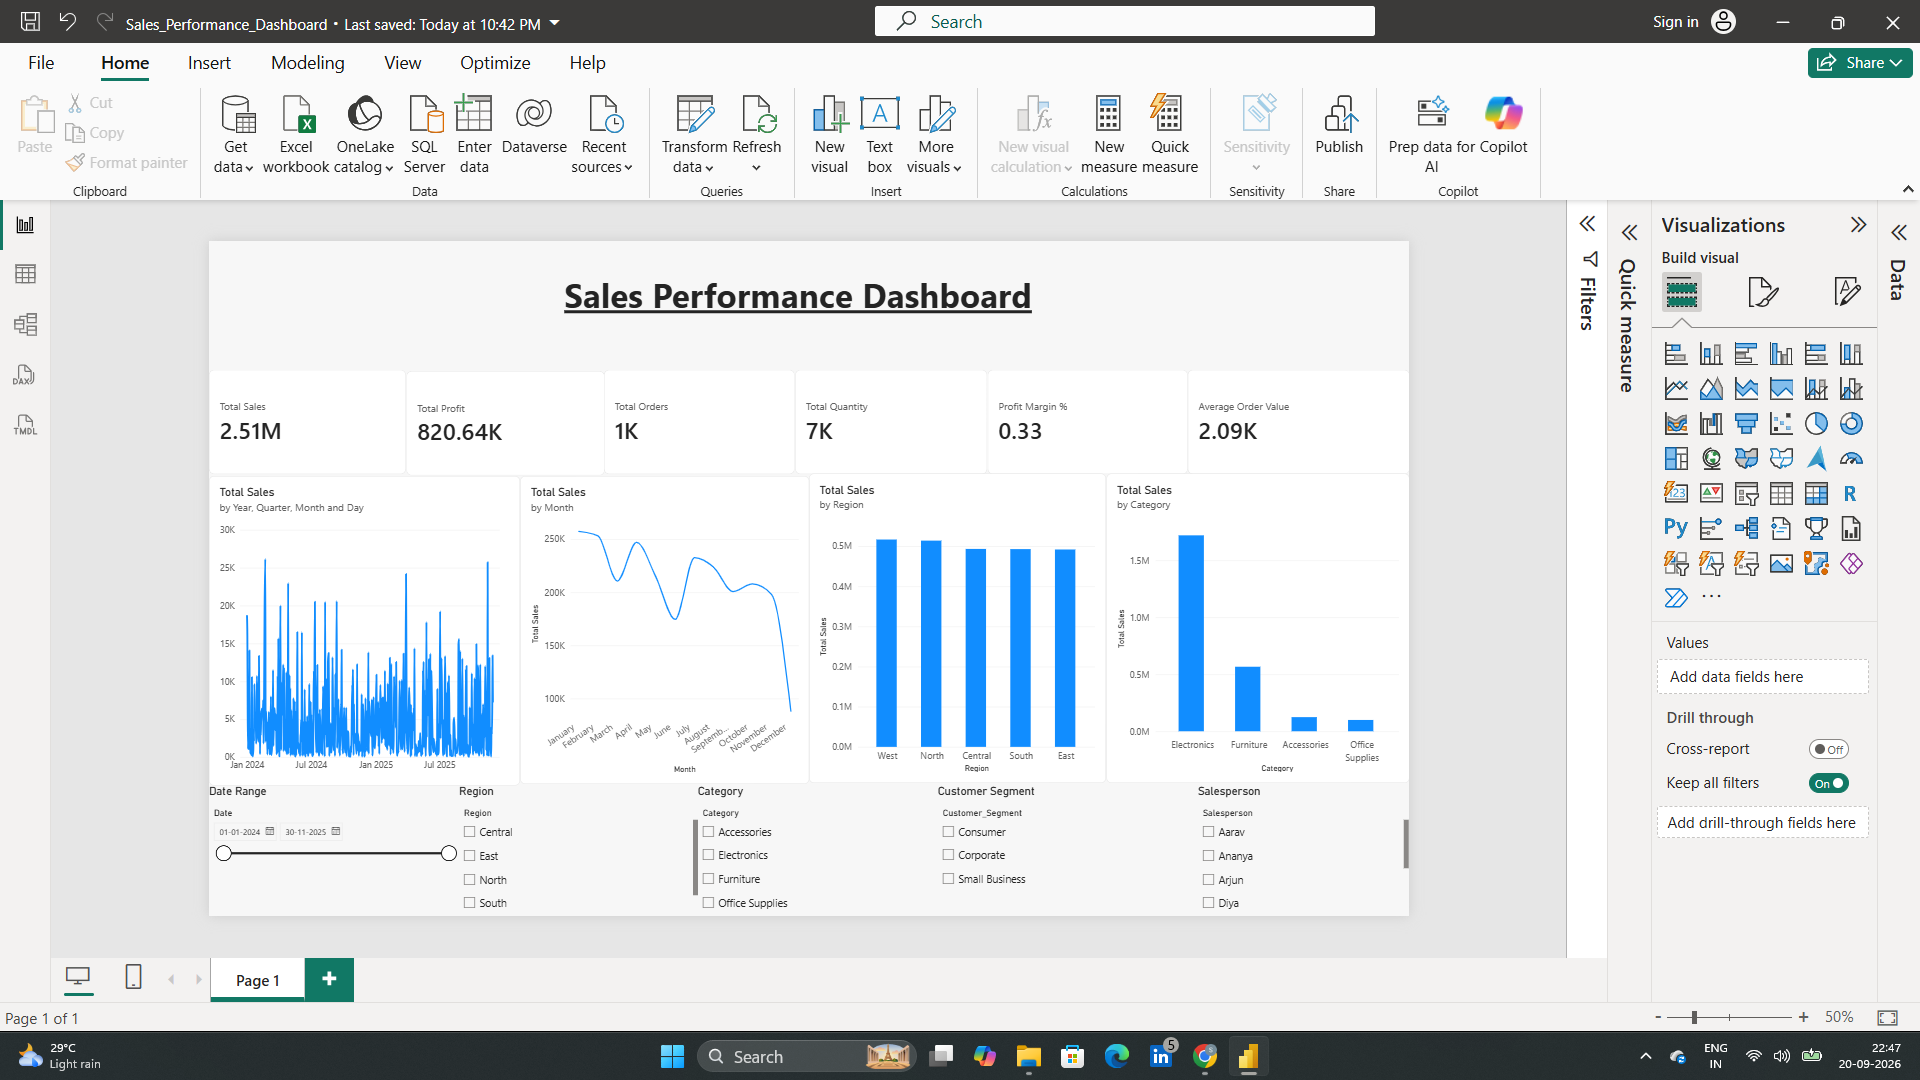

What the dashboard file says about the page in this screenshot:
{"tool":"powerbi","page":{"name":"Page 1","canvas":[1920,1080],"ordinal":0},"visuals":[{"type":"cardVisual","fields":{"Data":["Sales.Total Sales"]},"box":[0,205,315,167.5],"z":0},{"type":"cardVisual","fields":{"Data":["Sales.Total Profit"]},"box":[315,207.5,317.5,167.5],"z":1000},{"type":"cardVisual","fields":{"Data":["Sales.Total Orders"]},"box":[632.5,205,305,167.5],"z":2000},{"type":"cardVisual","fields":{"Data":["Sales.Total Quantity"]},"box":[937.5,205,307.5,167.5],"z":3000},{"type":"cardVisual","fields":{"Data":["Sales.Profit Margin %"]},"box":[1245,205,320,167.5],"z":4000},{"type":"cardVisual","fields":{"Data":["Sales.Average Order Value"]},"box":[1565,205,355,167.5],"z":5000},{"type":"lineChart","fields":{"Category":["Date.Date.Variation.Date Hierarchy.Year","Date.Date.Variation.Date Hierarchy.Quarter","Date.Date.Variation.Date Hierarchy.Month","Date.Date.Variation.Date Hierarchy.Day"],"Y":["Sales.Total Sales"]},"box":[0,375,497.5,495],"z":6000},{"type":"clusteredColumnChart","fields":{"Category":["Sales.Region"],"Y":["Sales.Total Sales"]},"box":[960,372.5,475,495],"z":7000},{"type":"clusteredColumnChart","fields":{"Category":["Sales.Category"],"Y":["Sales.Total Sales"]},"box":[1435,372.5,485,495],"z":8000},{"type":"lineChart","fields":{"Category":["Date.Date.Variation.Date Hierarchy.Year","Date.Date.Variation.Date Hierarchy.Quarter","Date.Date.Variation.Date Hierarchy.Month","Date.Date.Variation.Date Hierarchy.Day"],"Y":["Sales.Total Sales"]},"box":[497.5,375,462.5,492.5],"z":9000},{"type":"slicer","title":"Date Range","fields":{"Values":["Date.Date"]},"box":[0,870,400,210],"z":10000},{"type":"slicer","title":"Region","fields":{"Values":["Sales.Region"]},"box":[400,870,382.5,207.5],"z":11000},{"type":"slicer","title":"Category","fields":{"Values":["Sales.Category"]},"box":[782.5,870,382.5,210],"z":12000},{"type":"slicer","title":"Customer Segment","fields":{"Values":["Sales.Customer_Segment"]},"box":[1165,870,417.5,210],"z":13000},{"type":"slicer","title":"Salesperson","fields":{"Values":["Sales.Salesperson"]},"box":[1582.5,870,337.5,210],"z":14000},{"type":"textbox","box":[530,50,825,127.5],"z":14001}]}

Visuals, with their boxes on the page's 1920x1080 design canvas (x1, y1, x2, y2). These are canvas units, not pixel positions in the 1920x1080 screenshot, which may show the page scaled, cropped or inside an application window:
cardVisual - Sales.Total Sales: rect(0, 205, 315, 372)
cardVisual - Sales.Total Profit: rect(315, 208, 632, 375)
cardVisual - Sales.Total Orders: rect(632, 205, 938, 372)
cardVisual - Sales.Total Quantity: rect(938, 205, 1245, 372)
cardVisual - Sales.Profit Margin %: rect(1245, 205, 1565, 372)
cardVisual - Sales.Average Order Value: rect(1565, 205, 1920, 372)
lineChart - Date.Date.Variation.Date Hierarchy.Year x Date.Date.Variation.Date Hierarchy.Quarter: rect(0, 375, 498, 870)
clusteredColumnChart - Sales.Region x Sales.Total Sales: rect(960, 372, 1435, 868)
clusteredColumnChart - Sales.Category x Sales.Total Sales: rect(1435, 372, 1920, 868)
lineChart - Date.Date.Variation.Date Hierarchy.Year x Date.Date.Variation.Date Hierarchy.Quarter: rect(498, 375, 960, 868)
"Date Range" slicer: rect(0, 870, 400, 1080)
"Region" slicer: rect(400, 870, 782, 1078)
"Category" slicer: rect(782, 870, 1165, 1080)
"Customer Segment" slicer: rect(1165, 870, 1582, 1080)
"Salesperson" slicer: rect(1582, 870, 1920, 1080)
textbox: rect(530, 50, 1355, 178)
